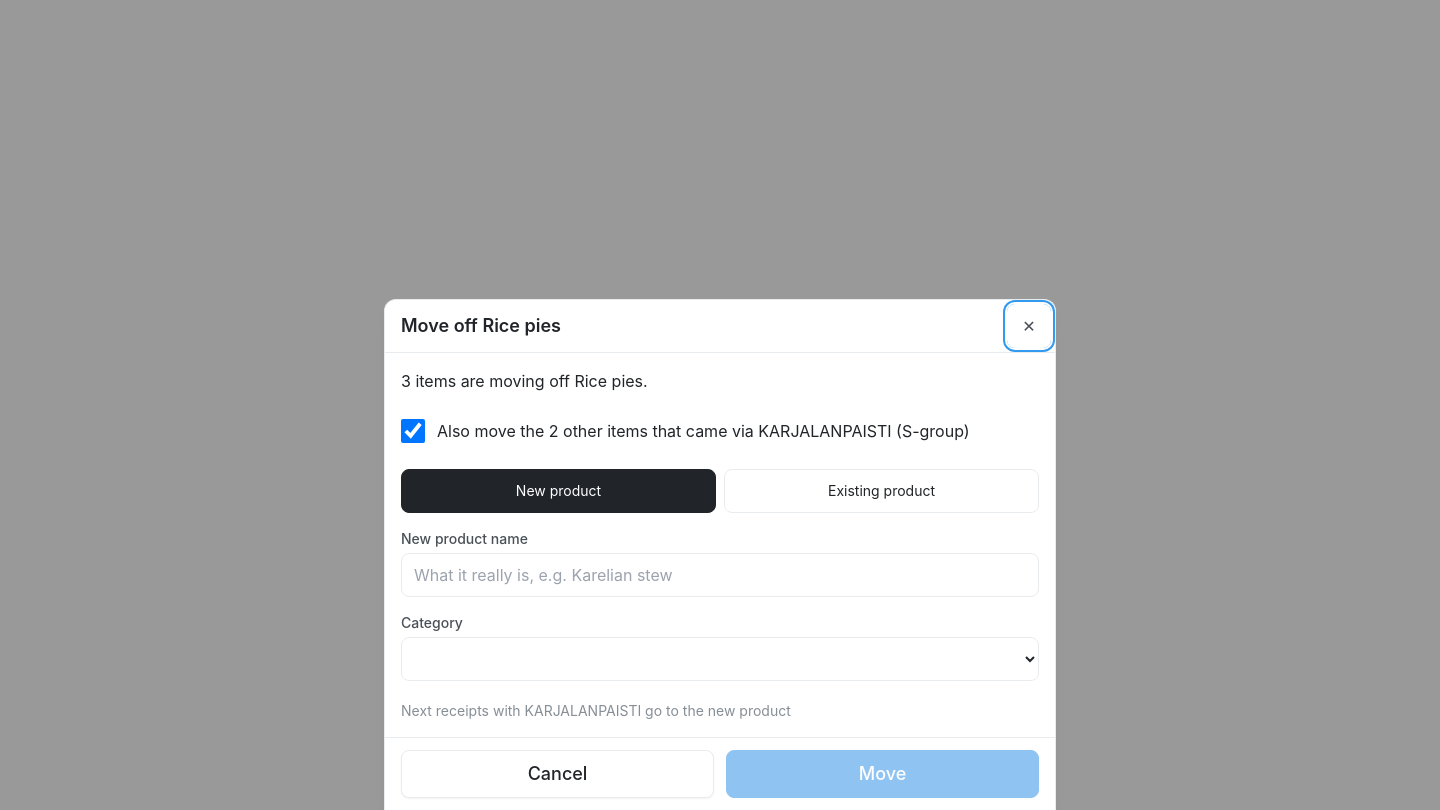
SplitSheet › says why on any other failure and stays open
The width and height of the screenshot is (1440, 810).
Step 1. Type "Karelian stew" into the field labelled "New product name" → (720, 575), box left=401, top=553, right=1039, bottom=597
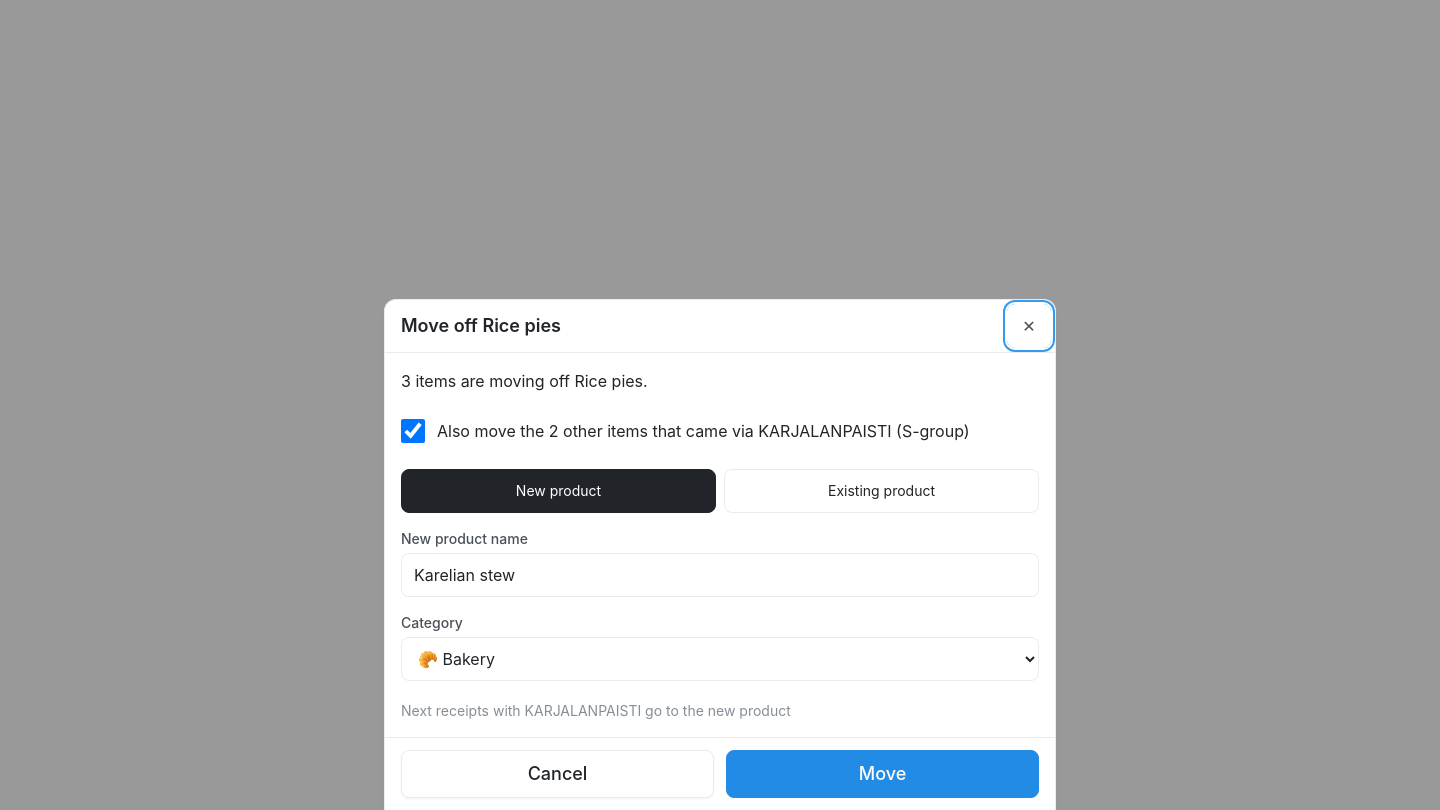
Now the dropdown labelled "Category" shows "🥐 Bakery", box left=401, top=637, right=1039, bottom=681
Step 2. Click the button "Move" → (882, 774), box left=726, top=750, right=1039, bottom=798
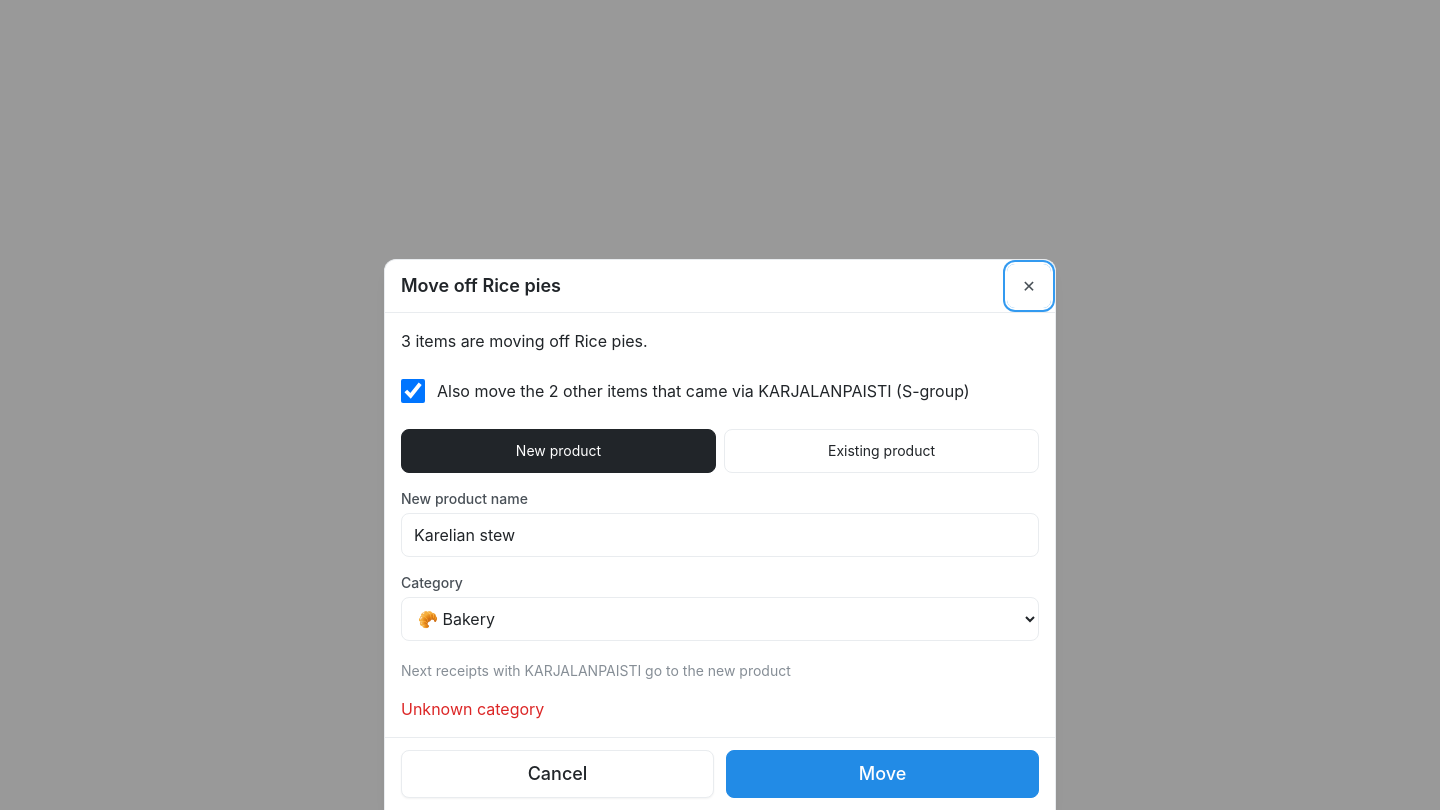
Now the text "Unknown category" is shown, box left=401, top=699, right=544, bottom=719
